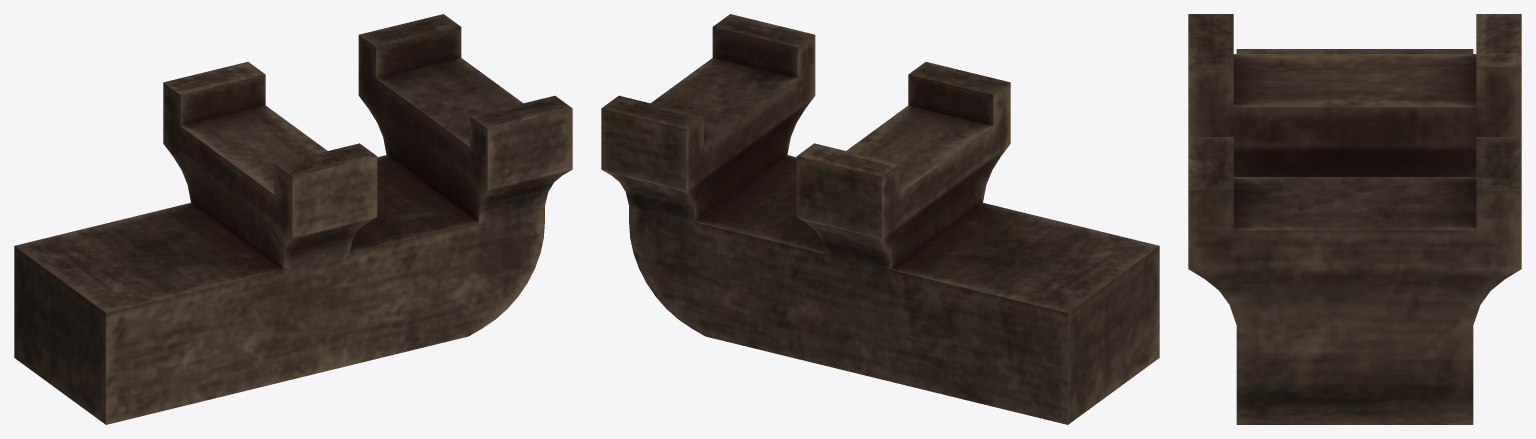
File: SM_Fence_05.fbx
The picture shows the model from 3 angles, left to right: view 1: azimuth 30°, elevation 25°; view 2: azimuth 150°, elevation 25°; view 3: azimuth 270°, elevation 25°; orthographic projection. The views are drawn at different scales.
Parts seen in each view (by area): view 1: SM_Fence_05_LOD0; view 2: SM_Fence_05_LOD0; view 3: SM_Fence_05_LOD0.
Boxes of the visible parts, <box> form: SM_Fence_05_LOD0: <box>14,14,572,424</box>; SM_Fence_05_LOD0: <box>601,14,1159,424</box>; SM_Fence_05_LOD0: <box>1188,14,1521,424</box>.
Bounding box in the file's own units: 125 × 62.46 × 58.93.
